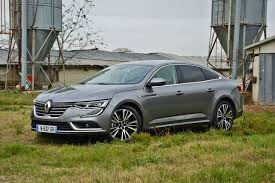car: (31, 61, 247, 142)
